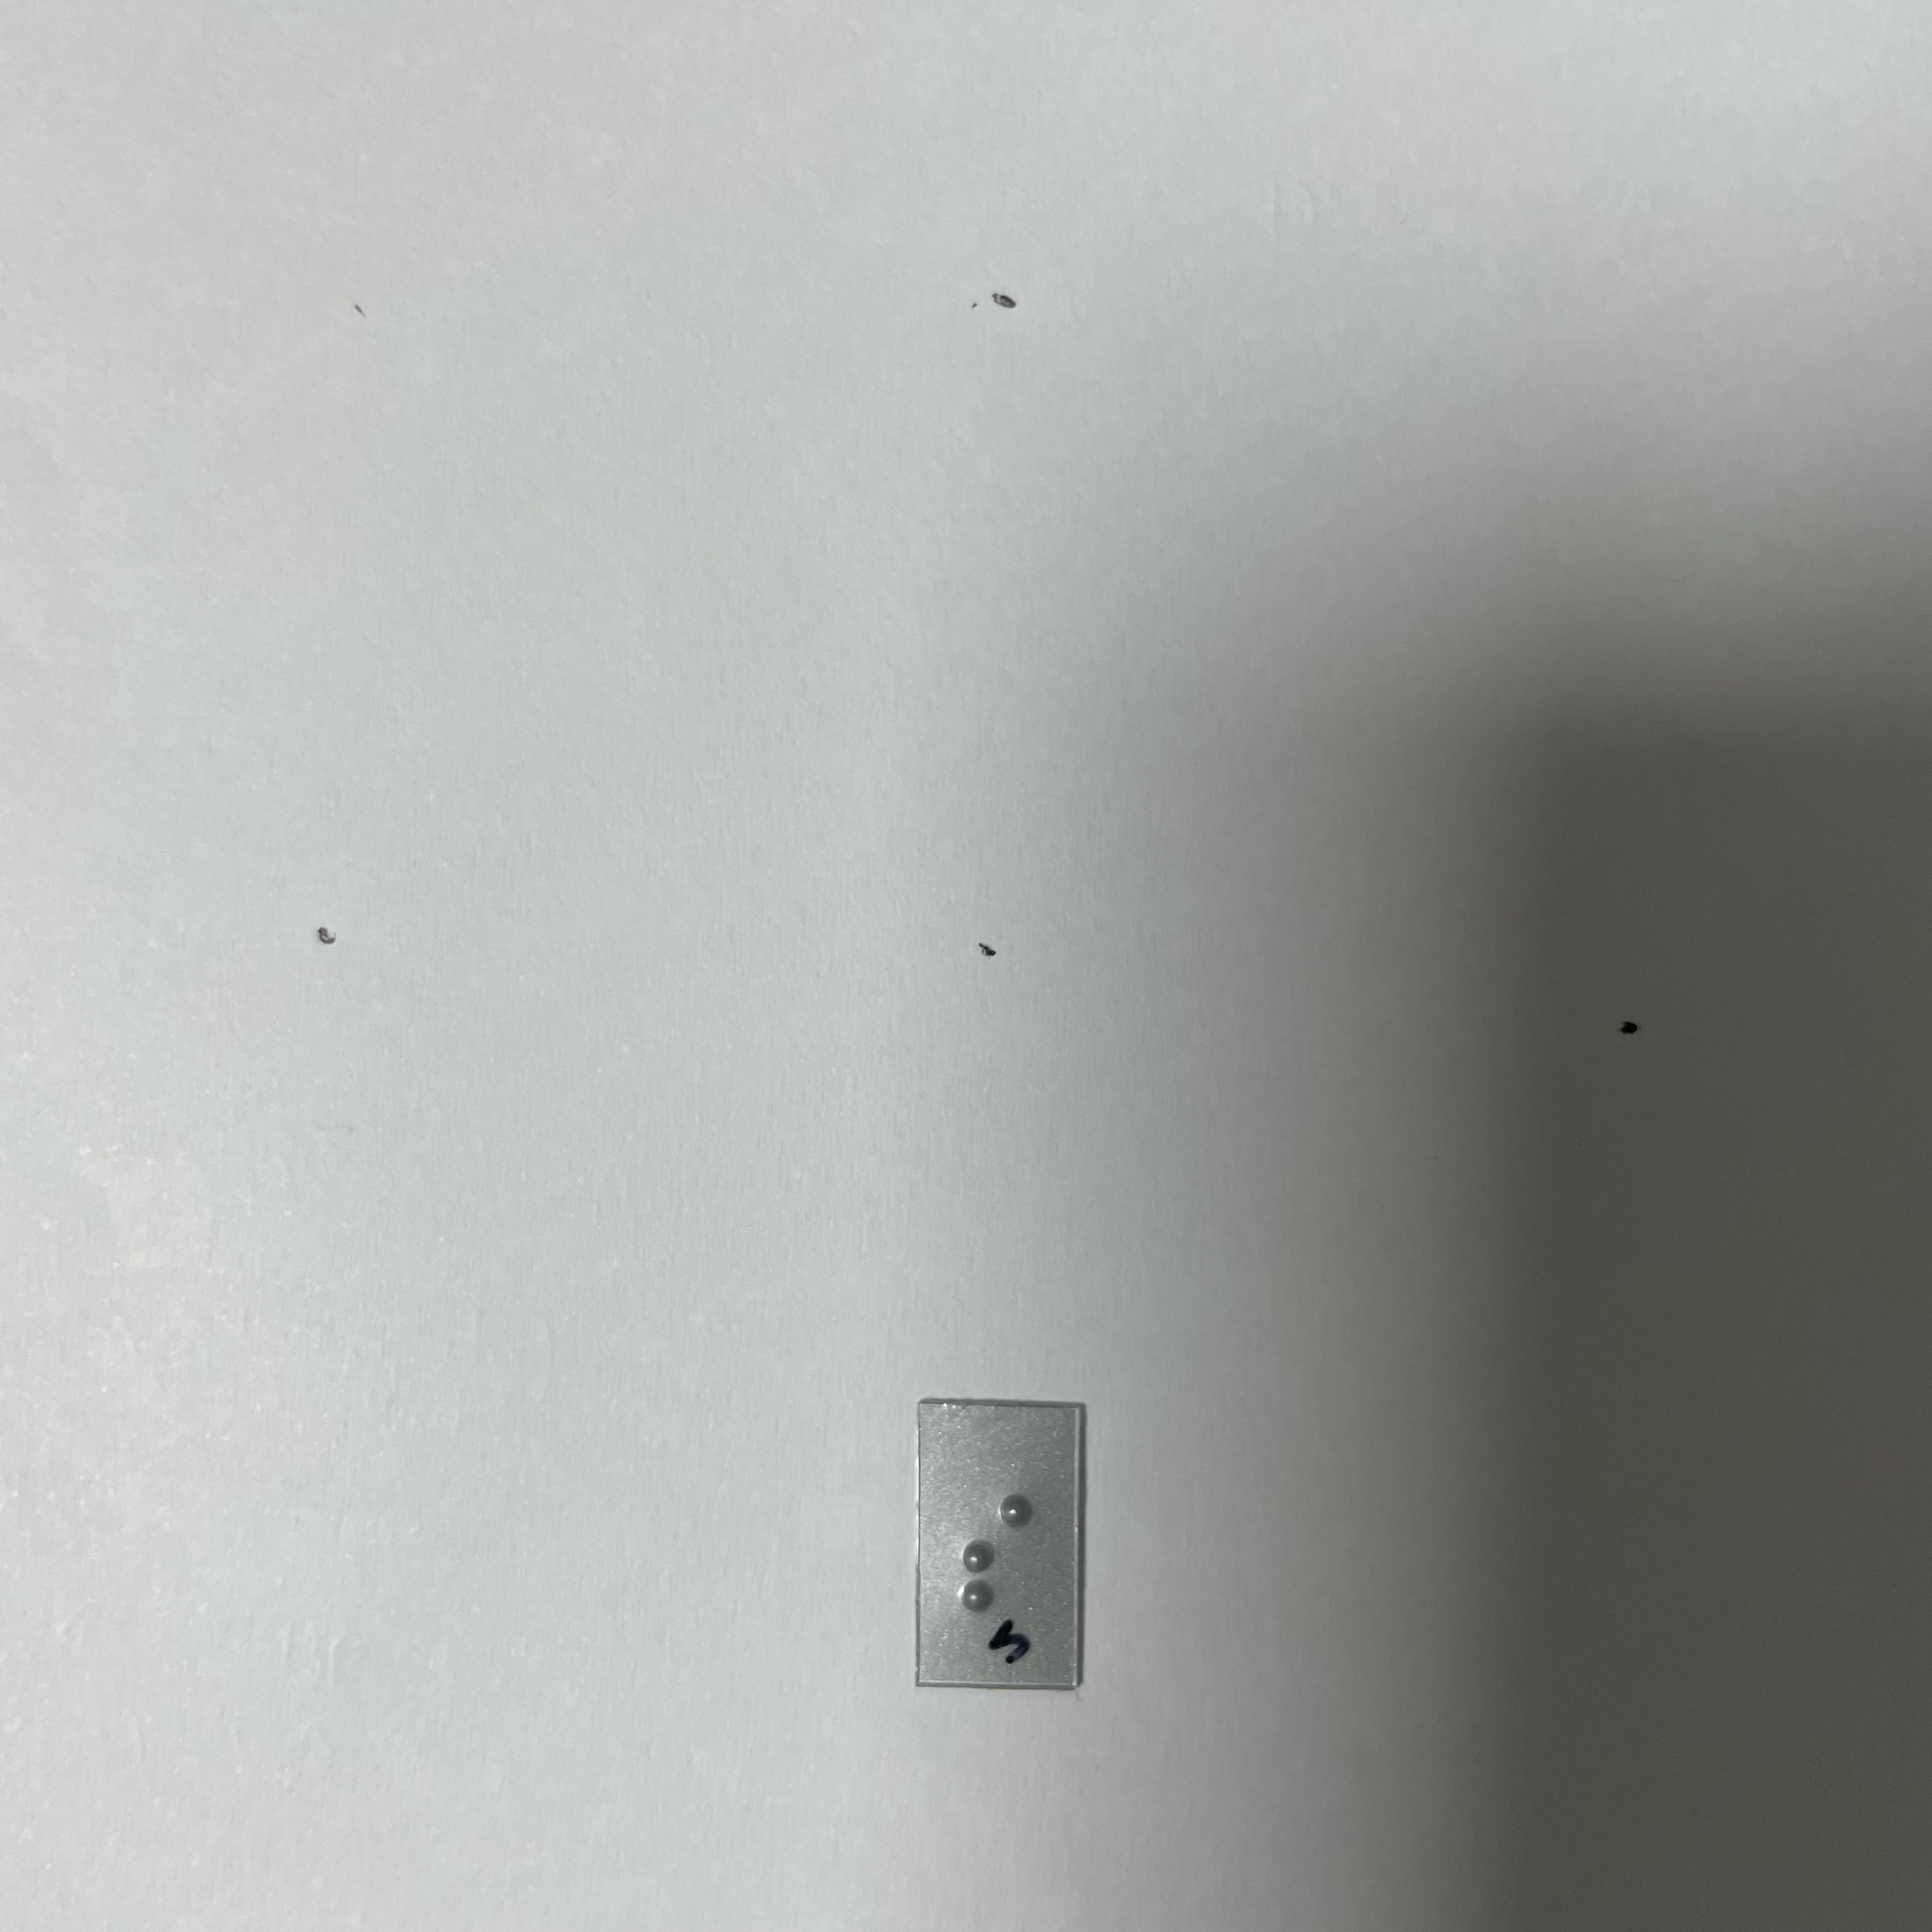s: (949, 1482, 1051, 1619)
